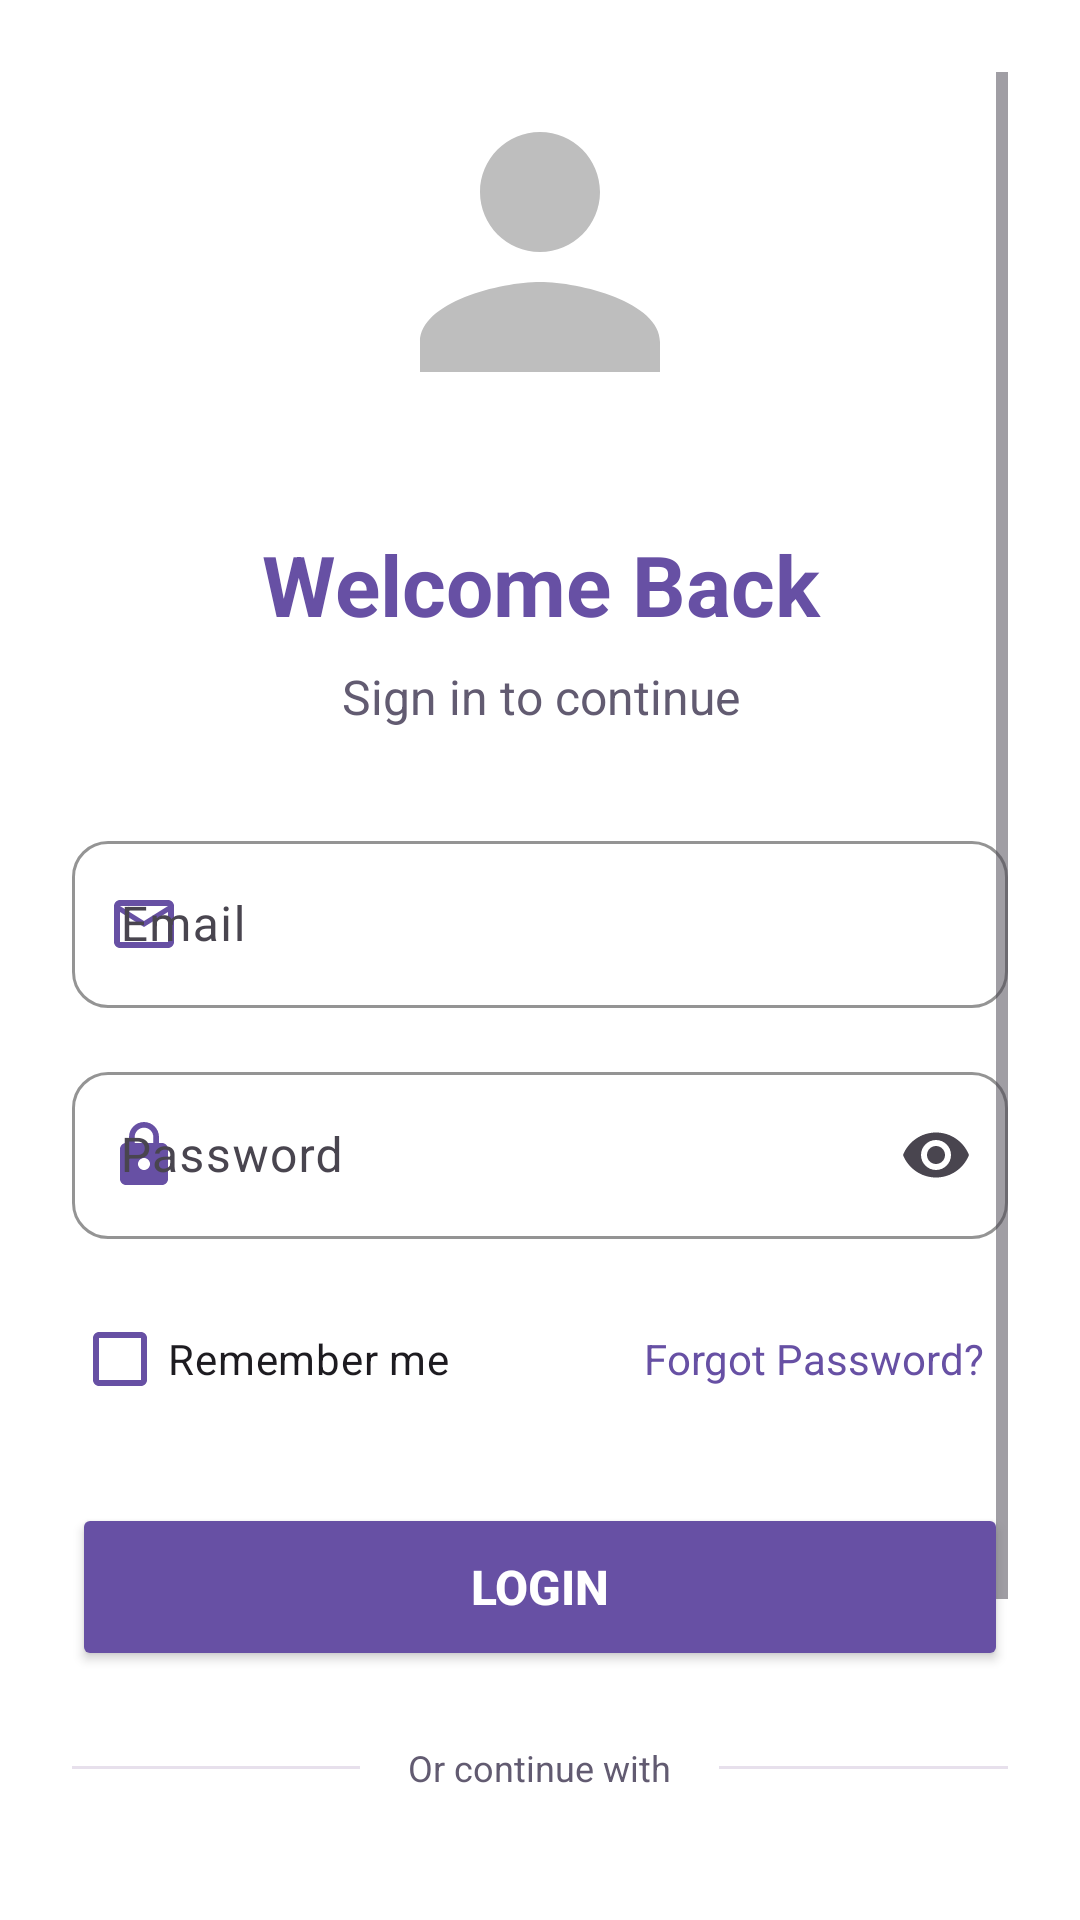

Icons on this 1080×1920 Android screen, each with its box as region(x1, y1, x2, y2):
profile: region(420, 132, 660, 372)
